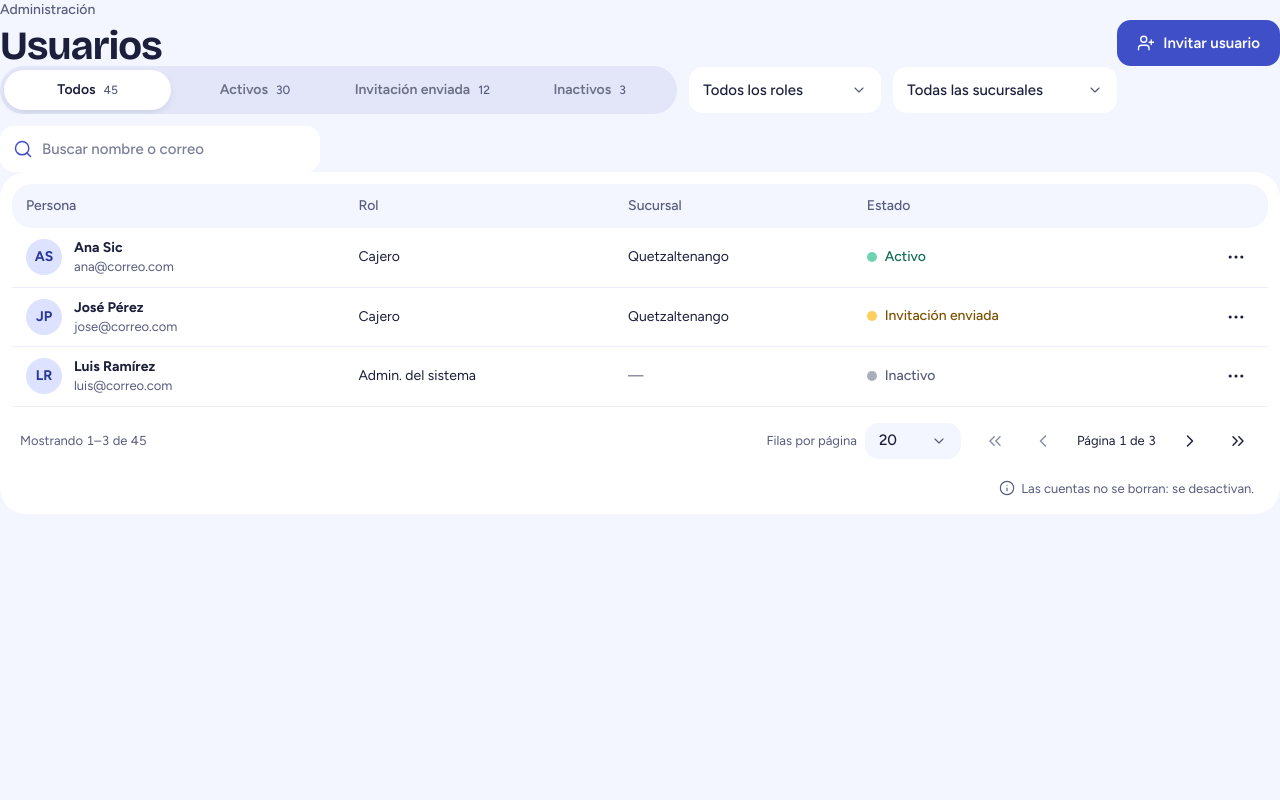
Test case: UsersScreen › reactivates inactive accounts after confirming
The image size is (1280, 800).
Later steps or results of the test are not shown.
Click the button named "Acciones de Luis Ramírez" at {"x": 1236, "y": 376}, box [1218,358,1254,394]
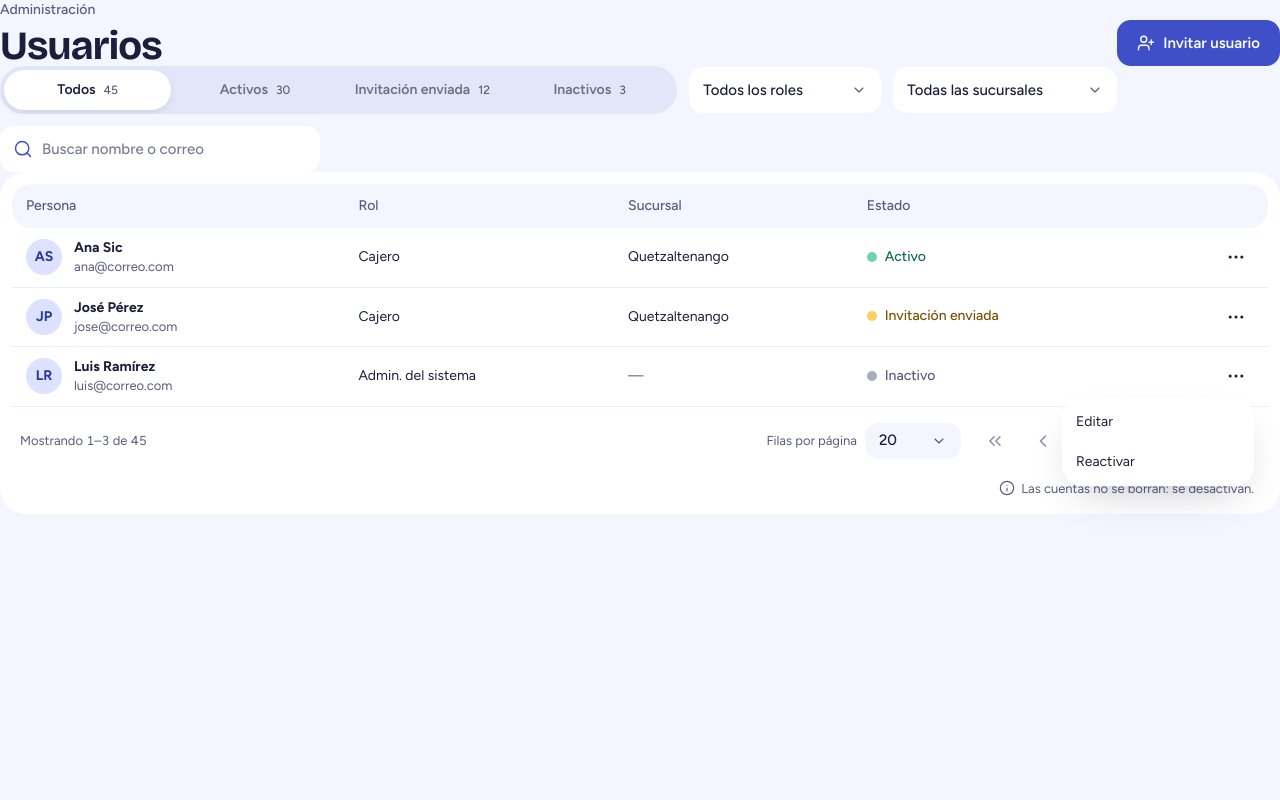
Click the menu item "Reactivar" at {"x": 1105, "y": 462}, box [1076,453,1135,470]
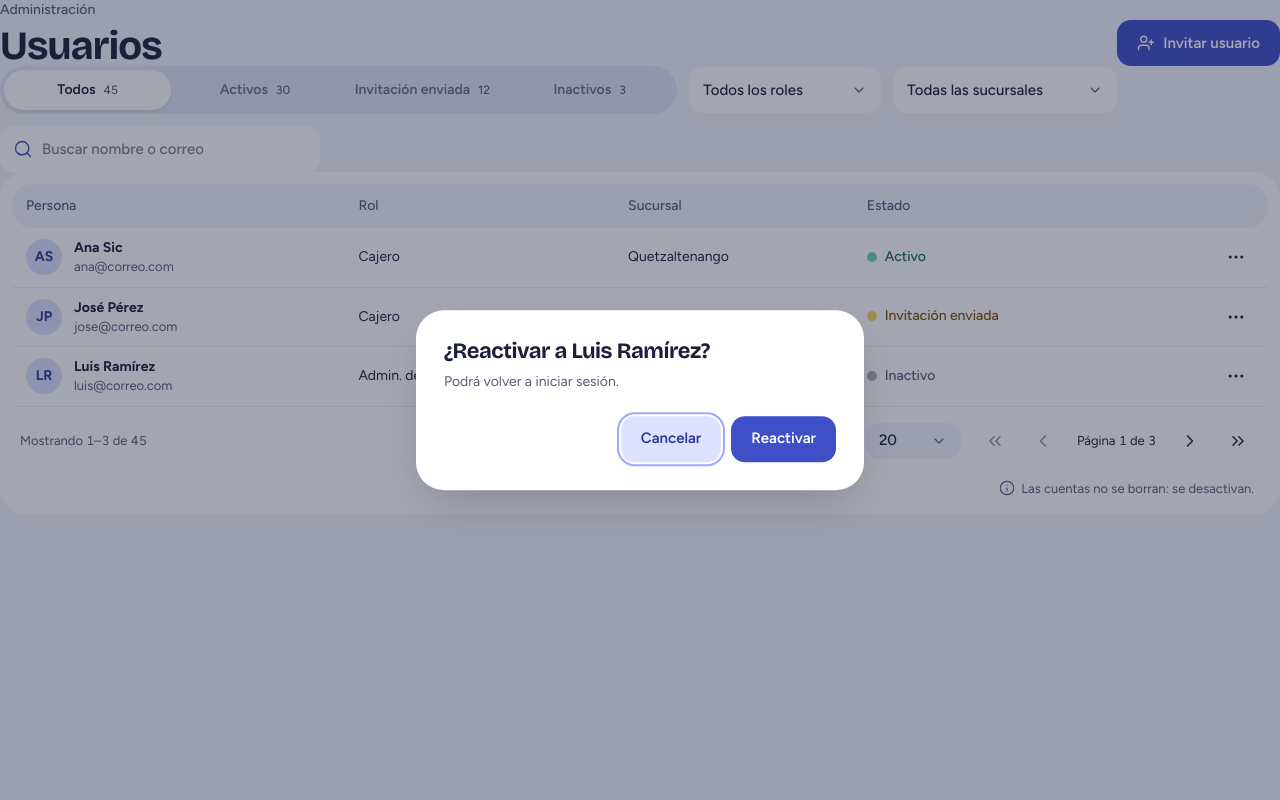
Expected: the dialog shows "¿Reactivar a Luis Ramírez?", [444,338,710,364]
